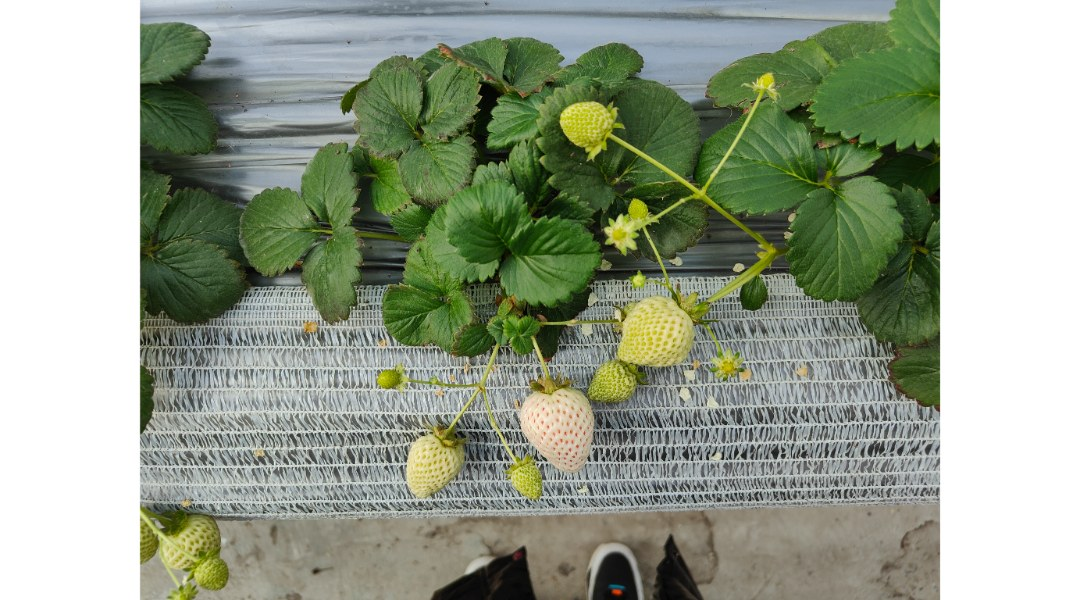berry: (519, 370, 599, 479), (622, 291, 698, 370), (556, 89, 623, 163), (410, 424, 461, 498), (175, 495, 226, 558), (119, 513, 163, 574), (591, 363, 642, 410), (505, 457, 550, 505), (743, 67, 787, 100), (596, 218, 638, 251), (372, 358, 403, 398), (623, 197, 657, 232), (195, 558, 238, 583)
strain: (608, 134, 695, 191), (704, 102, 760, 190), (704, 200, 769, 241), (484, 393, 517, 469), (441, 392, 476, 442), (409, 372, 467, 392), (534, 337, 556, 387), (480, 347, 502, 381)
